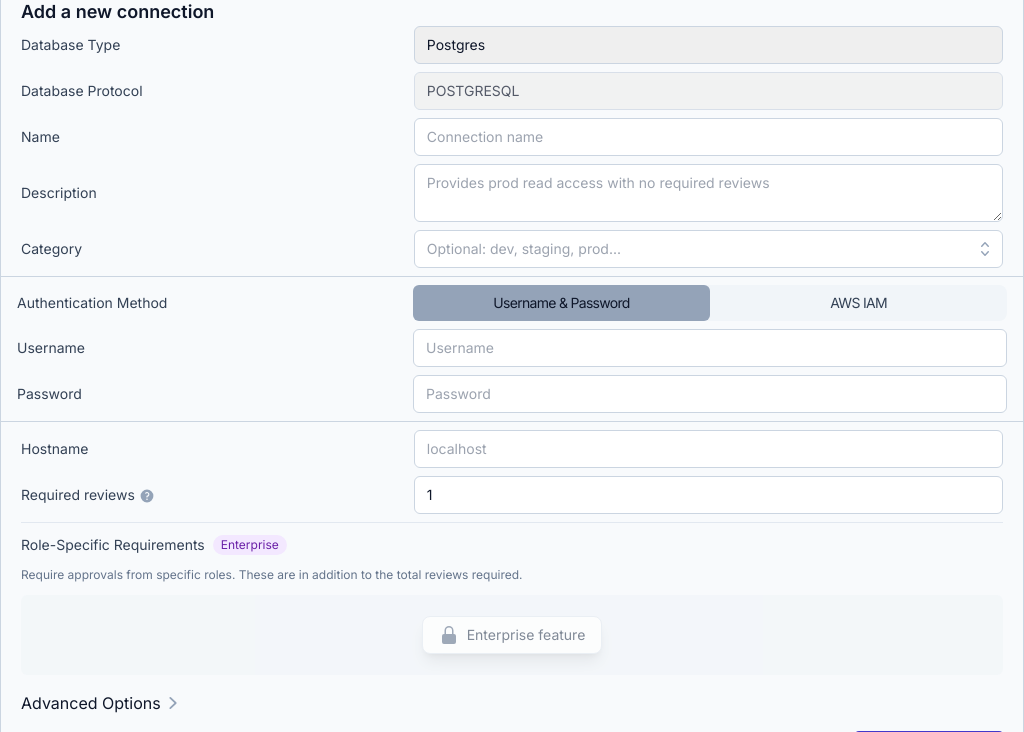
Test case: DatabaseConnectionForm - Max Temporary Access Duration › renders max temporary access duration field in advanced options
# Open advanced options
Click the button with test id "advanced-options-button" at x=103, y=703, box [21,683,185,723]
(page scrolled)
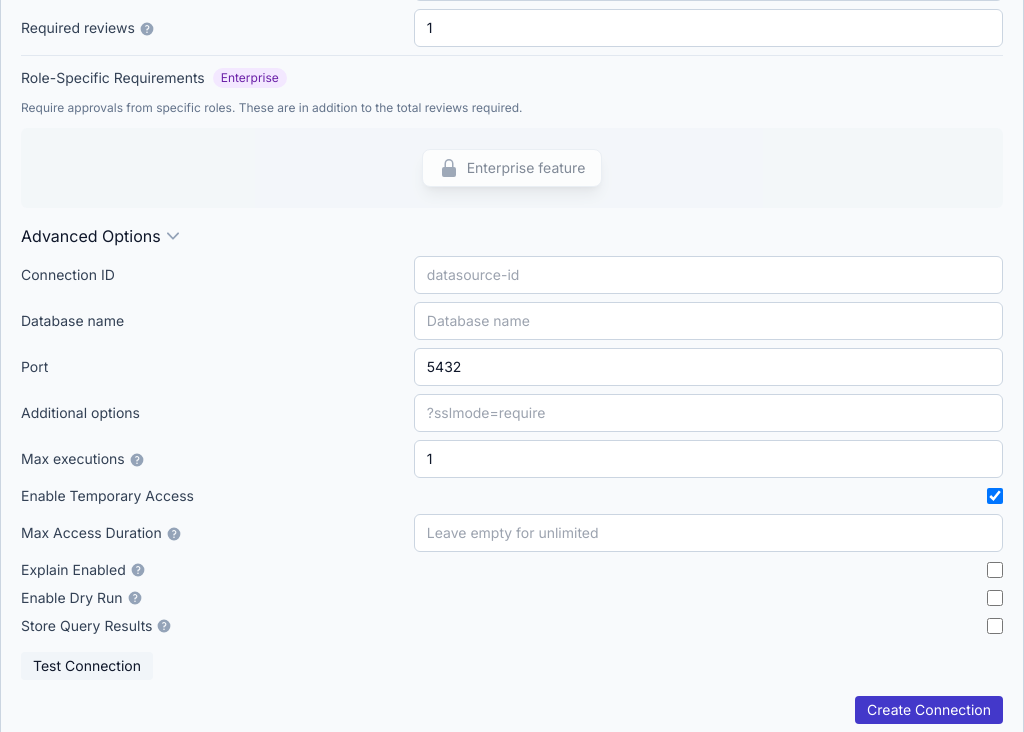
Result: the number field labelled "Max Access Duration" is shown at [414,514,1003,552]
